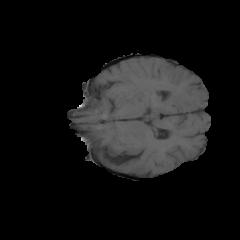glioma: (103, 88, 169, 113)
